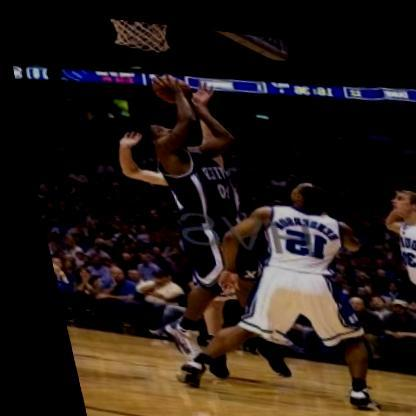basketball: (143, 63, 192, 106)
